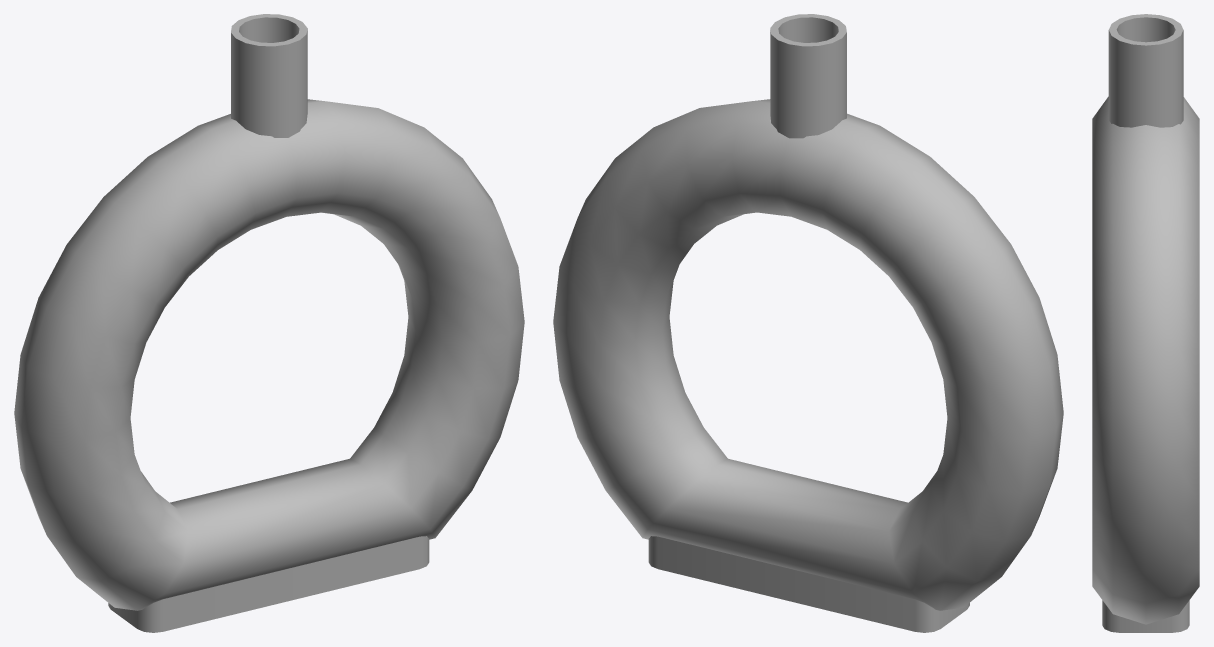
Rendered from vase3.FBX.
3 renders of one model, left to right at view 1: azimuth 30°, elevation 25°; view 2: azimuth 150°, elevation 25°; view 3: azimuth 270°, elevation 25°, orthographic. The views are drawn at different scales.
Visible parts, largest first — view 1: vase3; view 2: vase3; view 3: vase3.
Part boxes in pixels (x1,y1,x2,y2): vase3: (14, 14, 524, 632); vase3: (553, 14, 1063, 632); vase3: (1092, 14, 1199, 632).
Size of the model in its own units: 11.36 by 2.2 by 12.13.
1 material, 1 textured.
